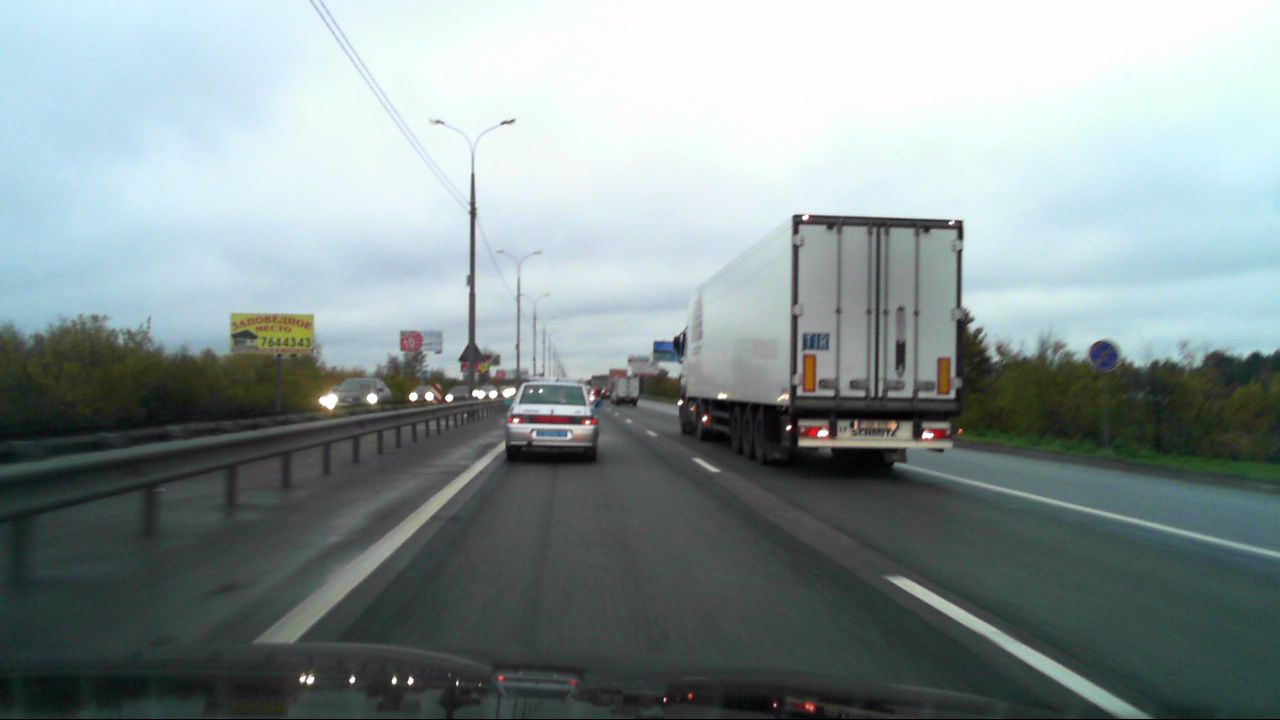No Parking: (1089, 340, 1118, 368)
